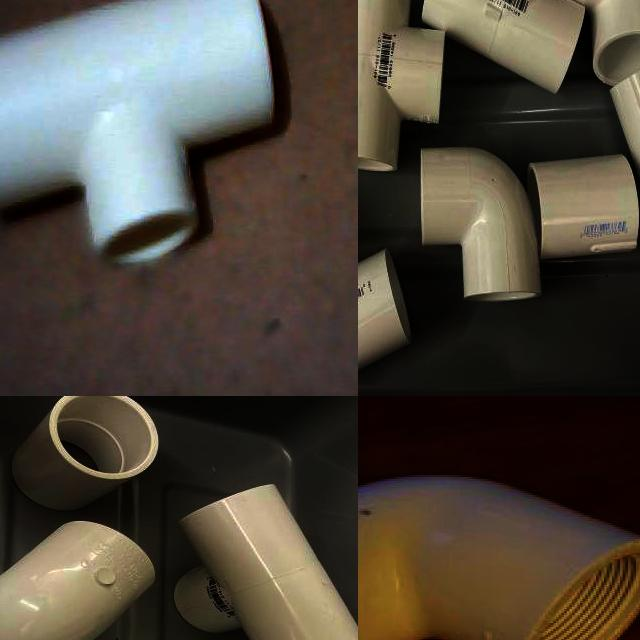L Joint: (358, 475, 640, 640), (419, 148, 542, 306), (0, 521, 157, 640)
T Joint: (178, 485, 358, 640), (421, 0, 587, 96), (358, 0, 446, 174)
